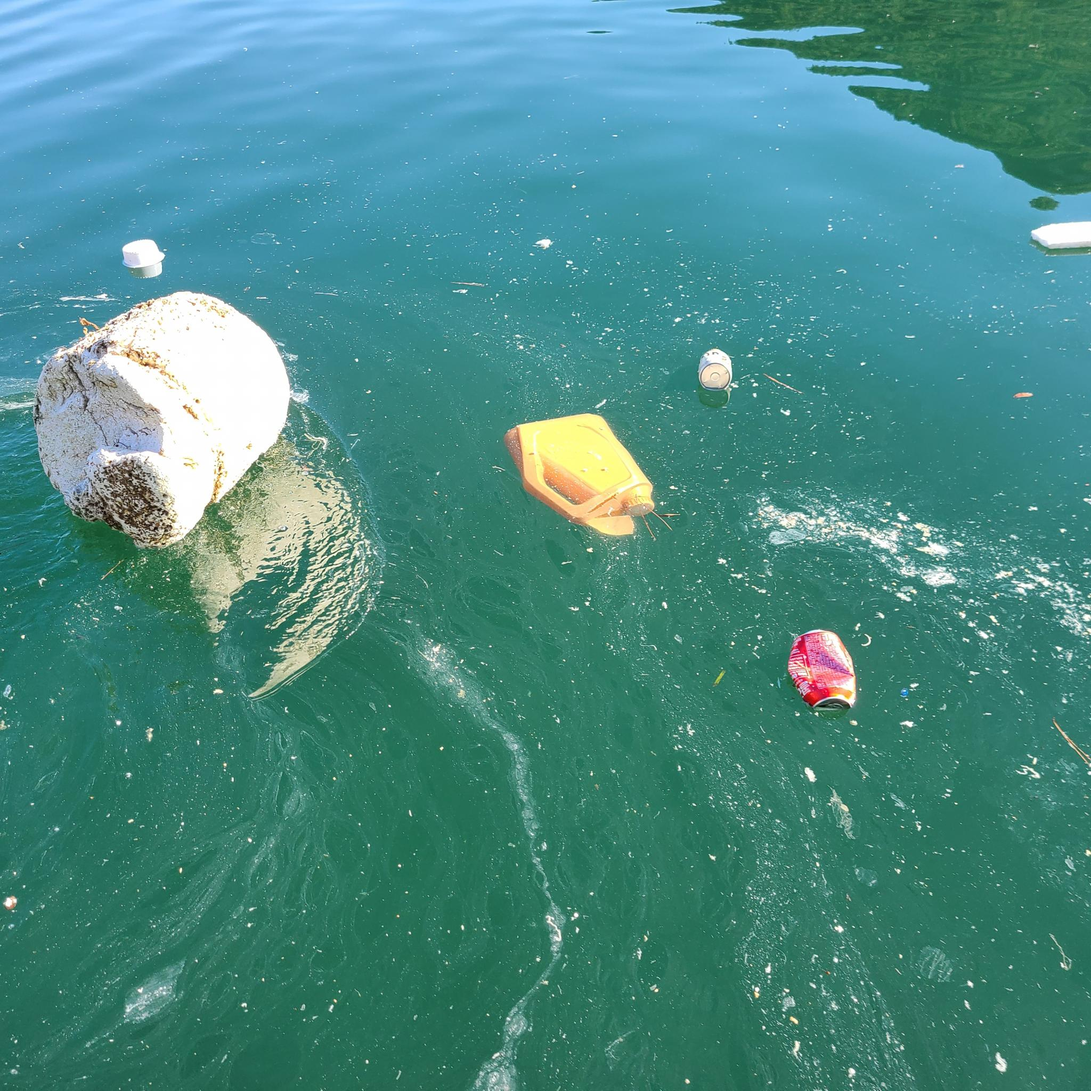sampah_terapung: (33, 292, 290, 550), (504, 414, 655, 537), (788, 630, 856, 711), (1031, 223, 1091, 249), (698, 349, 733, 391), (123, 240, 166, 268), (535, 239, 551, 248)
